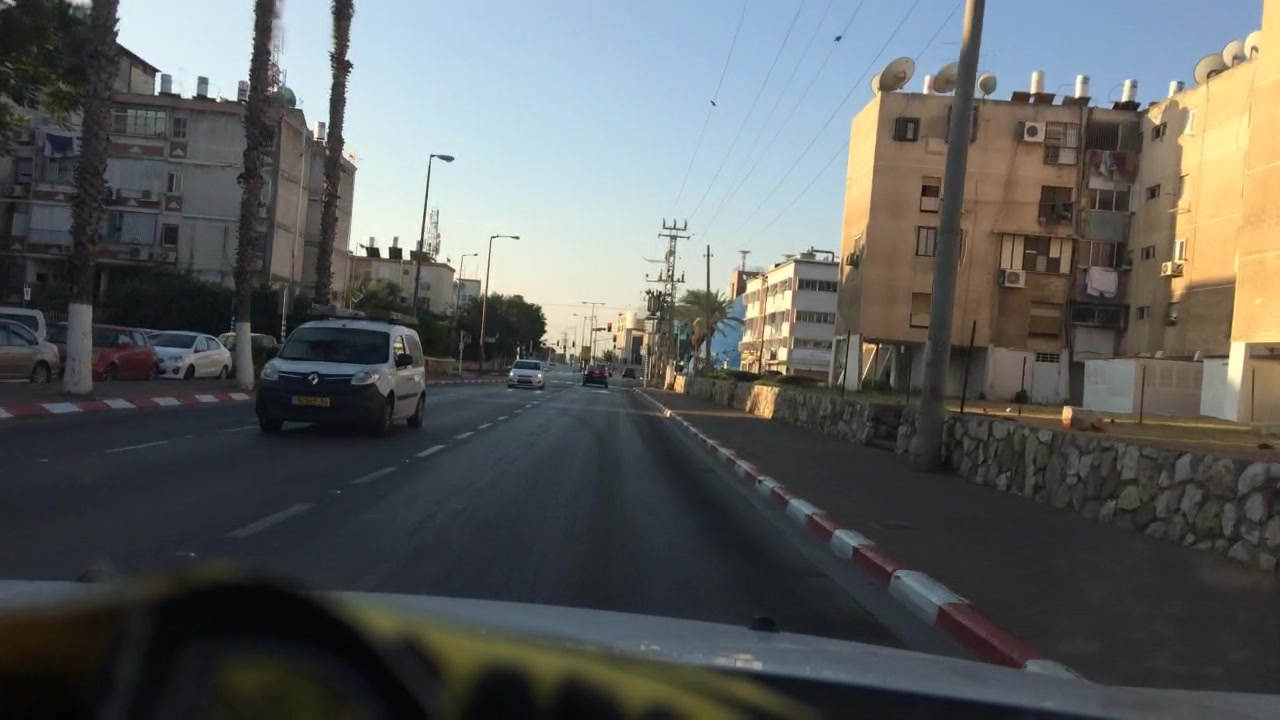licence: (288, 394, 330, 410)
